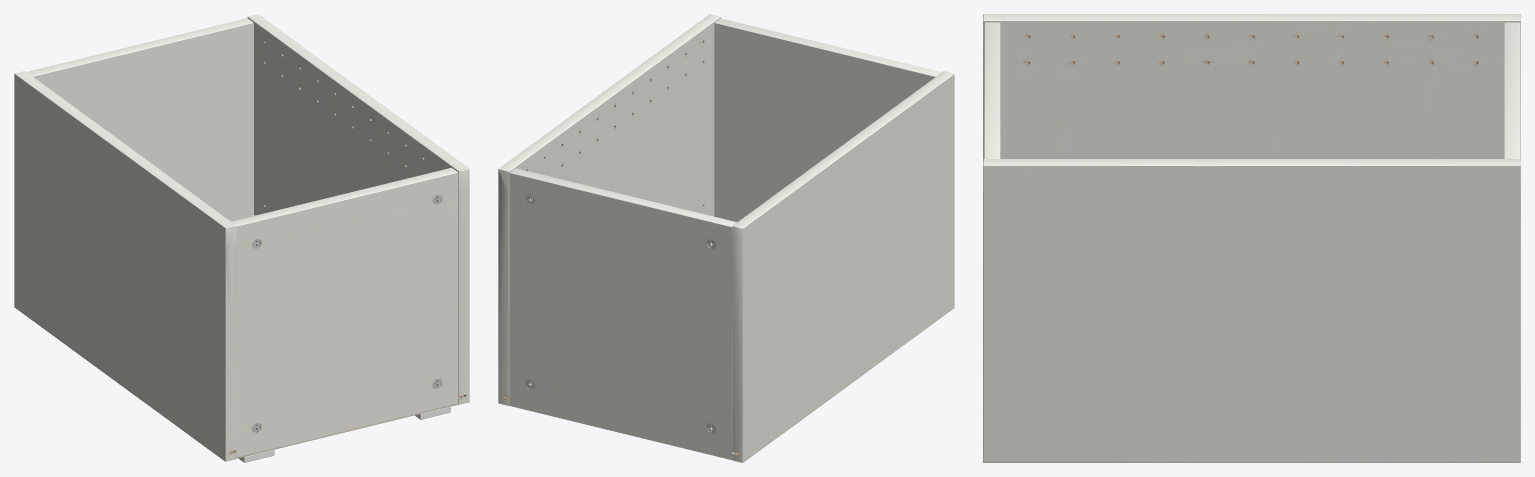
File: Metod10205534-scene-512.glb
The picture shows the model from 3 angles, left to right: view 1: azimuth 30°, elevation 25°; view 2: azimuth 150°, elevation 25°; view 3: azimuth 270°, elevation 25°; orthographic projection. The views are drawn at different scales.
Visible parts, largest first — view 1: 10205534-METOD001; view 2: 10205534-METOD001; view 3: 10205534-METOD001.
Part boxes in pixels (bbox=[...]): 10205534-METOD001: bbox=[14, 14, 469, 462]; 10205534-METOD001: bbox=[498, 14, 954, 462]; 10205534-METOD001: bbox=[983, 14, 1520, 462].
Bounding box in the file's own units: 0.4001 × 0.3761 × 0.6.
Materials: 1 (1 with a texture image).
